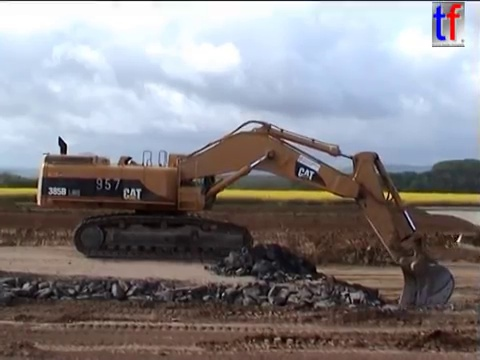excavator: (31, 116, 457, 321)
truck: (453, 231, 480, 252)
